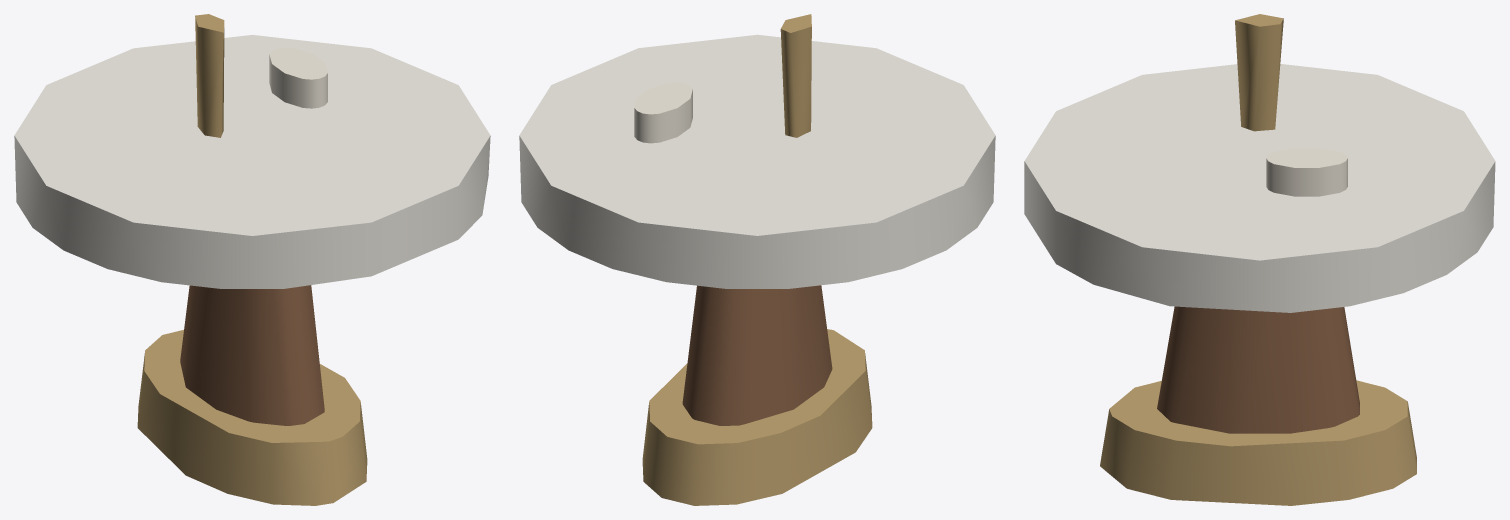
Rendered from studio-table-marble.lod.glb.
The picture shows the model from 3 angles, left to right: view 1: azimuth 30°, elevation 25°; view 2: azimuth 150°, elevation 25°; view 3: azimuth 270°, elevation 25°; orthographic projection.
Parts seen in each view (by area): view 1: part (×4); view 2: part (×4); view 3: part (×4).
Boxes of the visible parts, x1=… form: part (×4): x1=14, y1=14, x2=490, y2=505; part (×4): x1=519, y1=14, x2=995, y2=505; part (×4): x1=1024, y1=14, x2=1495, y2=505.
Size of the model in its own units: 1 by 1 by 1.
